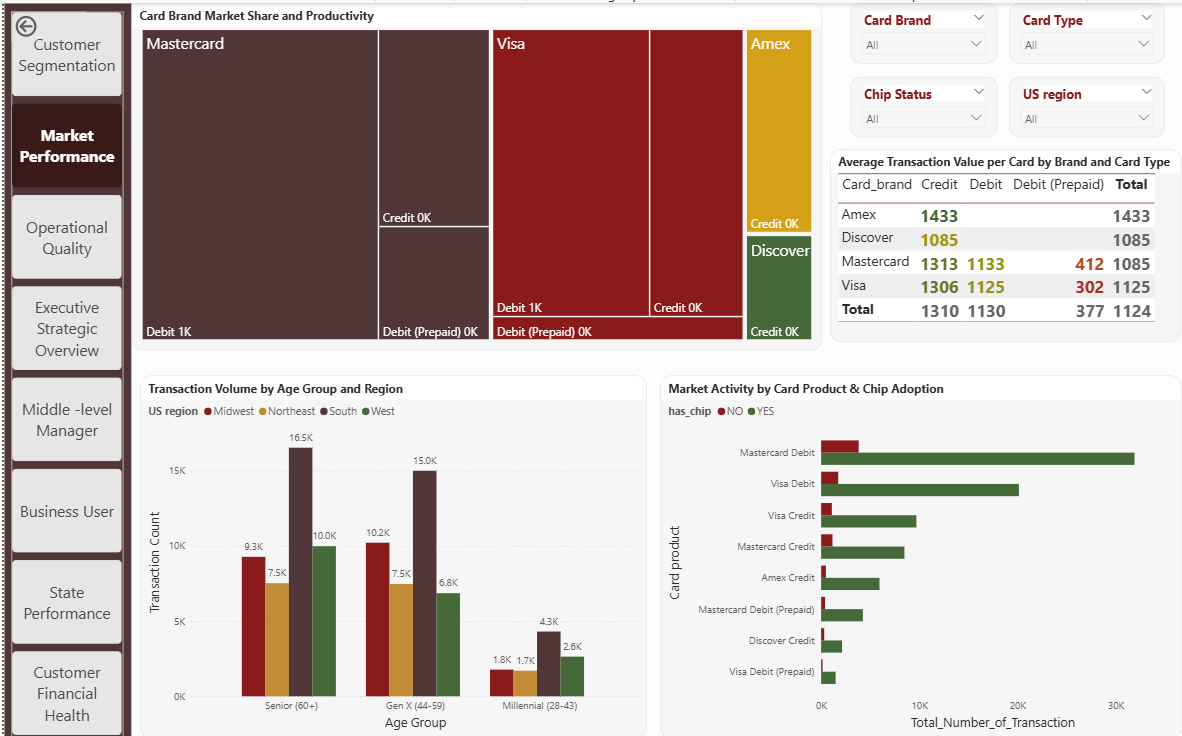

What the dashboard file says about the page in this screenshot:
{"tool":"powerbi","page":{"name":"Market Performance","canvas":[1600,1000],"ordinal":1},"visuals":[{"type":"treemap","title":"Card Brand Market Share and Productivity","fields":{"Group":["Cards.Card_brand"],"Details":["Cards.Card_type"],"Values":["Cards.Total Cards"]},"box":[173.3,0,938.3,471.7],"z":0},{"type":"clusteredColumnChart","title":"Transaction Volume by Age Group and Region","fields":{"Category":["Customers.Age Group"],"Series":["Transactions.US region"],"Y":["Transactions.Total_Number_of_Transaction"]},"box":[185,506.7,688.3,493.3],"z":1000},{"type":"pivotTable","title":"Average Transaction Value per Card by Brand and Card Type","fields":{"Rows":["Cards.Card_brand"],"Columns":["Cards.Card_type"],"Values":["Cards.GTV per Card"]},"box":[1123.3,198.3,476.7,261.7],"z":2000},{"type":"clusteredBarChart","title":"Market Activity by Card Product & Chip Adoption","fields":{"Category":["Cards.Card product"],"Series":["Cards.has_chip"],"Y":["Transactions.Total_Number_of_Transaction"]},"box":[891.7,506.7,708.3,493.3],"z":3000},{"type":"slicer","fields":{"Values":["Cards.Card_type"]},"box":[1366,0,212,82],"z":4000},{"type":"slicer","fields":{"Values":["Cards.Card_brand"]},"box":[1150,0,200,82],"z":5000},{"type":"slicer","fields":{"Values":["Cards.has_chip"]},"box":[1150,100,200,82],"z":6000},{"type":"slicer","fields":{"Values":["Transactions.US region"]},"box":[1366,100,212,82],"z":7000},{"type":"textbox","box":[0,0,173.3,1000],"z":8000},{"type":"pageNavigator","box":[10,11.7,151.7,988.3],"z":9000},{"type":"actionButton","box":[10,11.7,100,40],"z":10000}]}

Visuals, with their boxes on the page's 1600x1000 design canvas (x1, y1, x2, y2). These are canvas units, not pixel positions in the 1182x736 screenshot, which may show the page scaled, cropped or inside an application window:
"Card Brand Market Share and Productivity" treemap: 173:0:1112:472
"Transaction Volume by Age Group and Region" clusteredColumnChart: 185:507:873:1000
"Average Transaction Value per Card by Brand and Card Type" pivotTable: 1123:198:1600:460
"Market Activity by Card Product & Chip Adoption" clusteredBarChart: 892:507:1600:1000
slicer - Cards.Card_type: 1366:0:1578:82
slicer - Cards.Card_brand: 1150:0:1350:82
slicer - Cards.has_chip: 1150:100:1350:182
slicer - Transactions.US region: 1366:100:1578:182
textbox: 0:0:173:1000
pageNavigator: 10:12:162:1000
actionButton: 10:12:110:52
